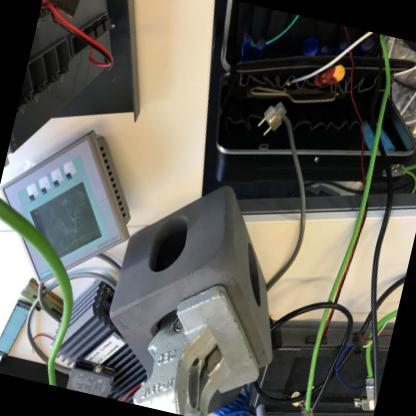CornerCasting: (101, 162, 312, 379)
Twistlock: (124, 267, 281, 415)
